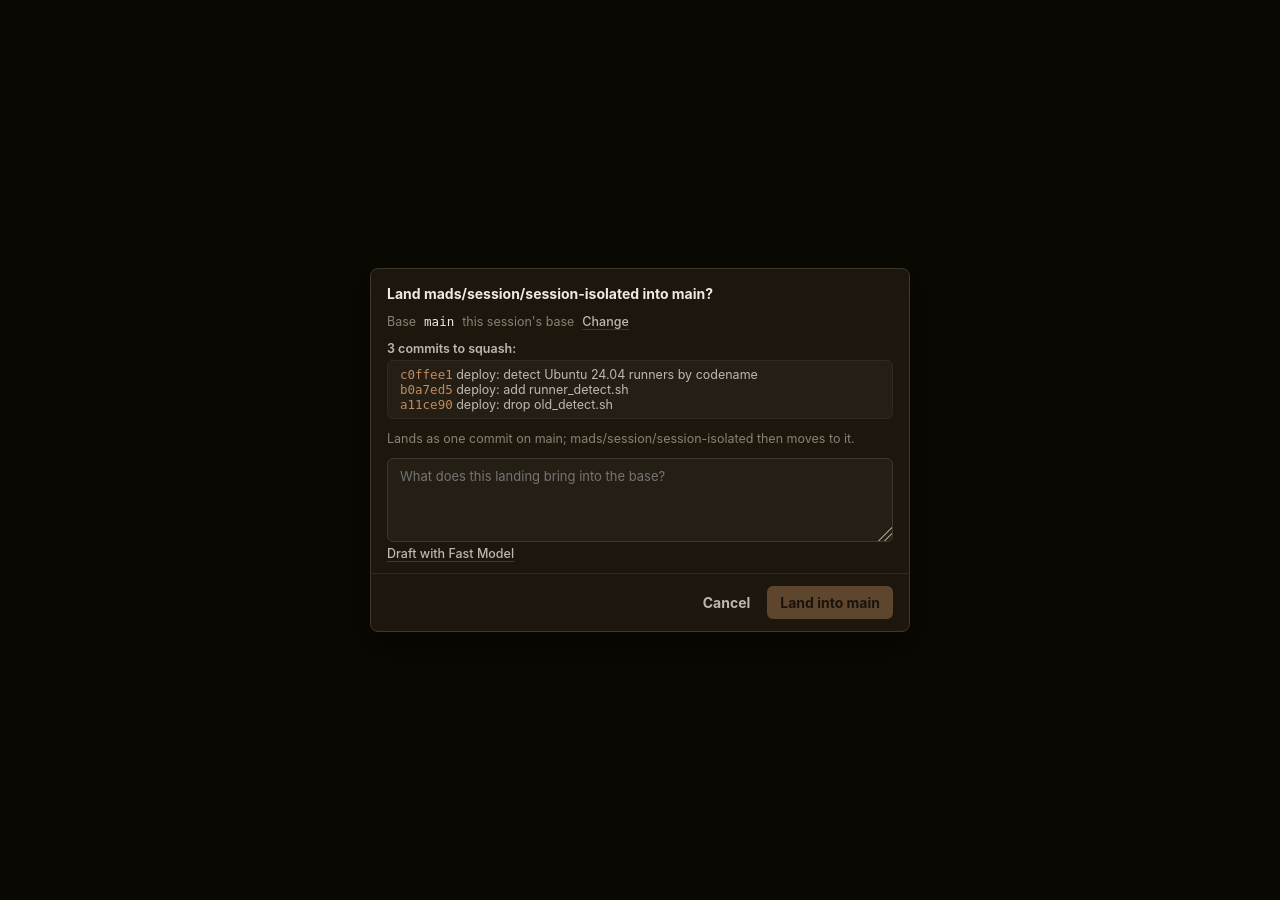
Test: LandDialog (COMMIT-LAND-PUSH D12) › keeps a refusal in place, in worktreeCopy's words, and stays open with the message
Step 1. Type "deploy" into the text box named "Landing message" → (640, 500), box x1=387 y1=458 x2=893 y2=542
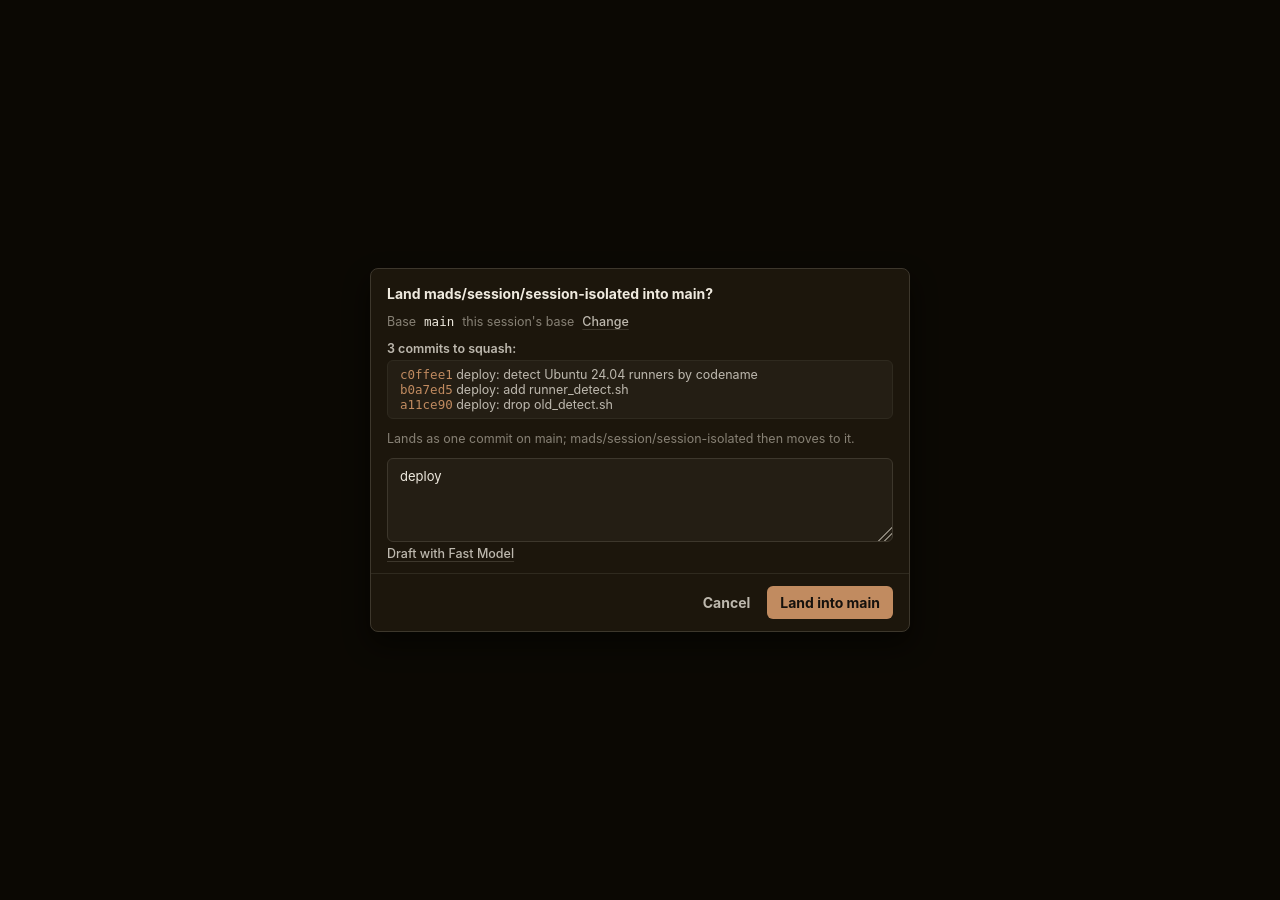
Step 2. Click the button "Land into main" → (830, 602), box x1=767 y1=586 x2=893 y2=619
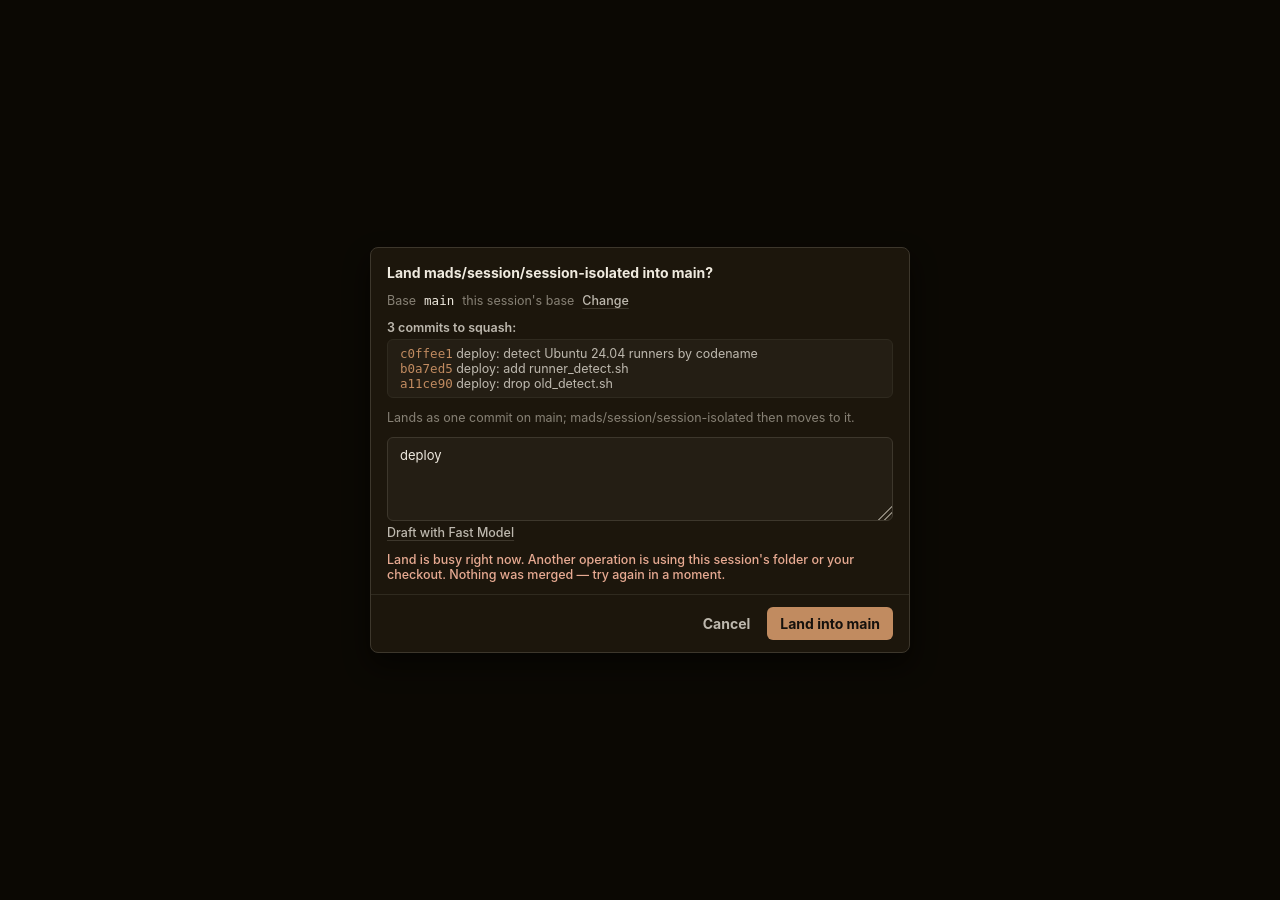
Result: the message shows "Land is busy right now." at x1=387 y1=552 x2=893 y2=582
